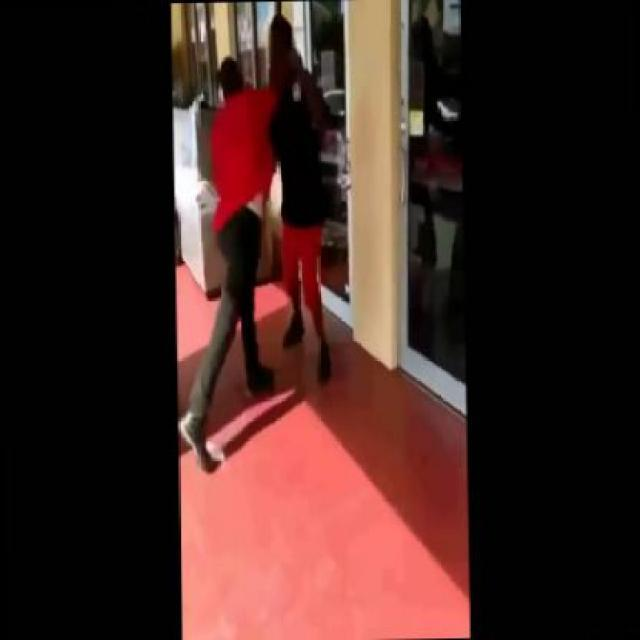fight: (208, 11, 334, 392)
